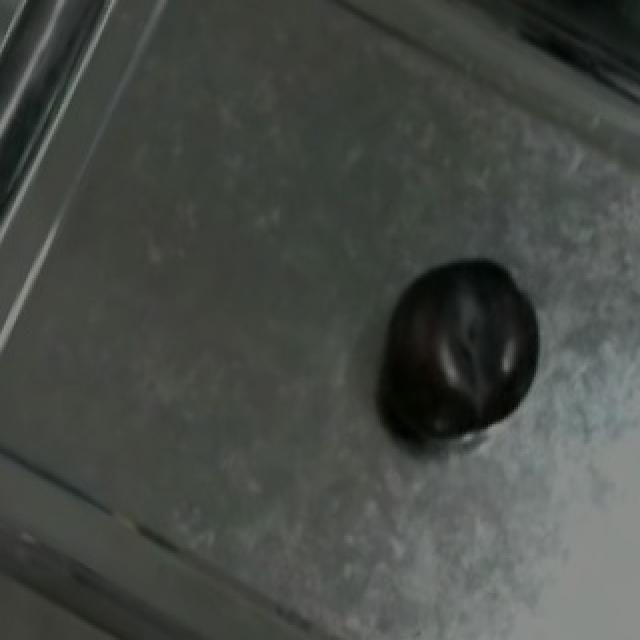Fruit: (372, 238, 562, 462)
